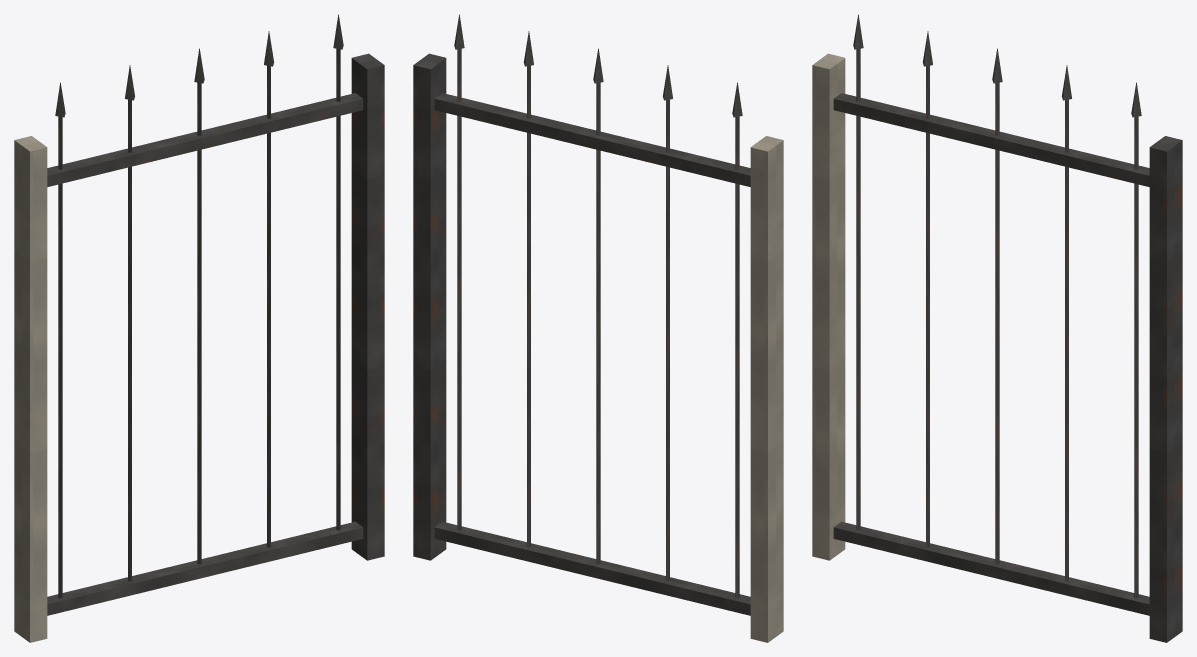
The model's file is Prop_MetalFence_Simple_LOD1.gltf.
The picture shows the model from 3 angles, left to right: view 1: azimuth 30°, elevation 25°; view 2: azimuth 150°, elevation 25°; view 3: azimuth 330°, elevation 25°; orthographic projection.
Visible parts, largest first — view 1: Prop_MetalFence_Simple_LOD1; view 2: Prop_MetalFence_Simple_LOD1; view 3: Prop_MetalFence_Simple_LOD1.
Boxes of the visible parts, <box> form: Prop_MetalFence_Simple_LOD1: <box>14,14,384,642</box>; Prop_MetalFence_Simple_LOD1: <box>413,14,783,642</box>; Prop_MetalFence_Simple_LOD1: <box>812,14,1182,642</box>.
Bounding box in the file's own units: 1.95 × 2.87 × 0.15.
Materials: 2 (2 with a texture image).
